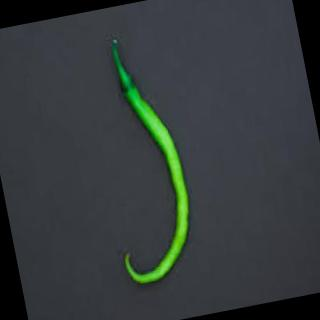Cabai Hijau: (91, 67, 205, 287)
